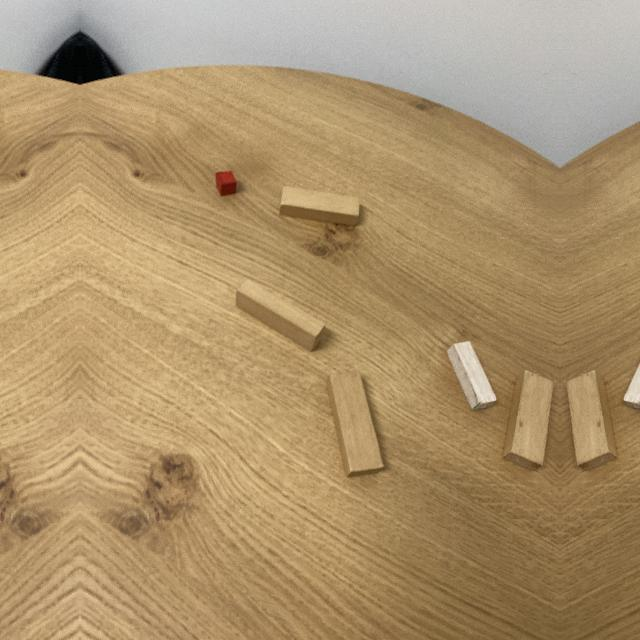block: (446, 340, 497, 410), (623, 363, 640, 409)
jenga: (325, 369, 385, 478), (236, 279, 326, 350), (502, 370, 553, 471), (567, 370, 618, 471), (280, 186, 359, 226)
red cube: (215, 170, 237, 196)
